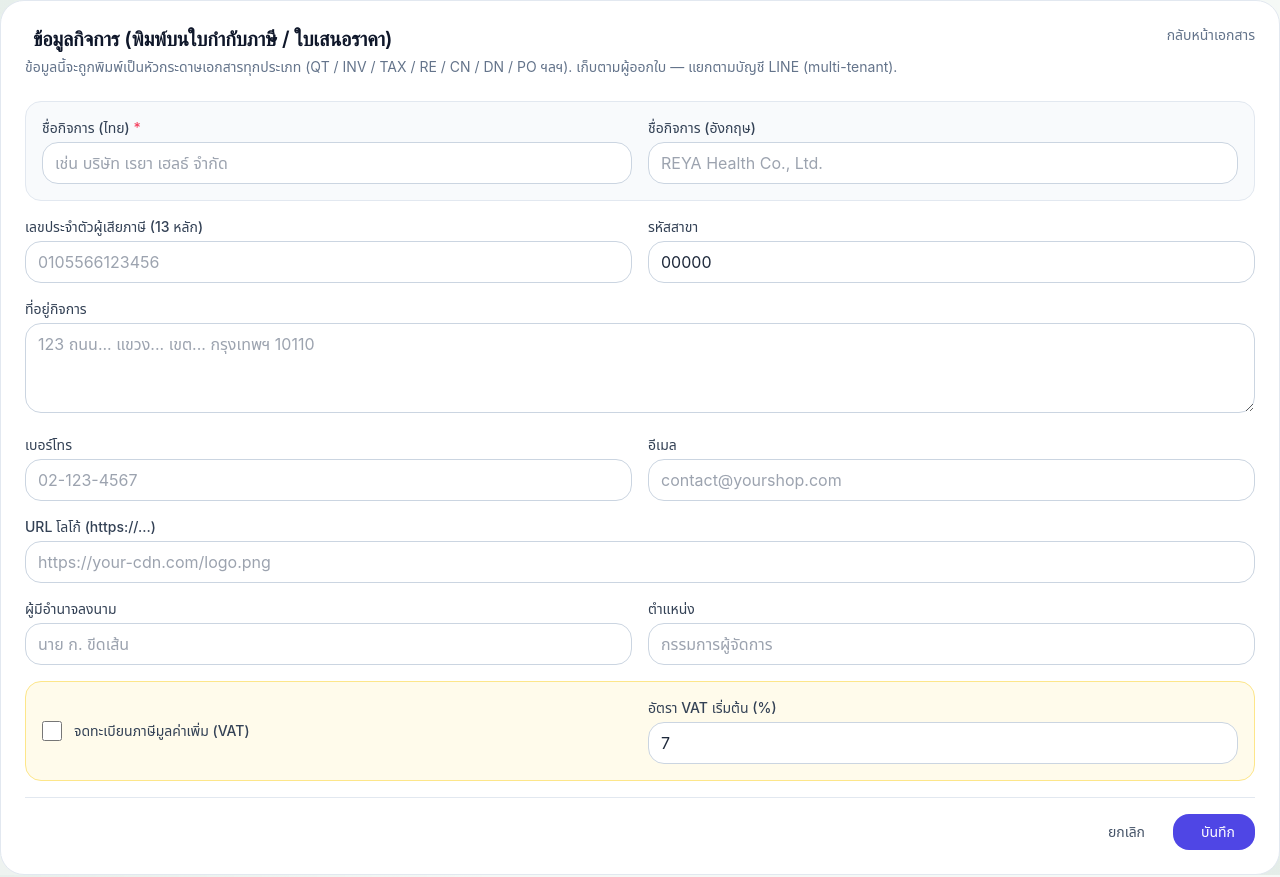
Test case: ShopTaxTab — submit › shows the error banner using result.message when success=false
Type "ร้านยา ทดสอบ" into the field with placeholder "เช่น บริษัท เรยา เฮลธ์ จำกัด" at (337, 163), box [42, 142, 632, 184]
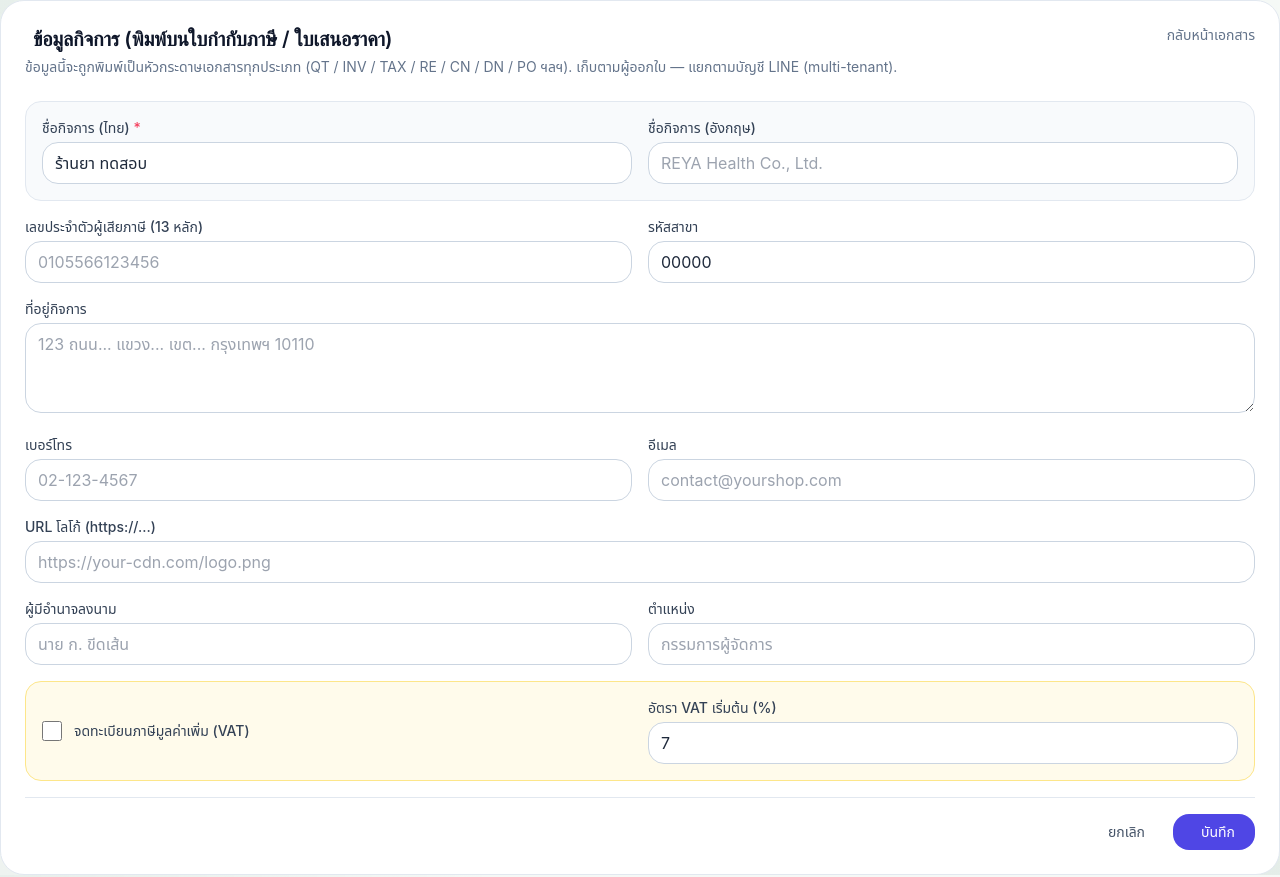
Click the button "บันทึก" at (1214, 832), box [1173, 814, 1255, 850]
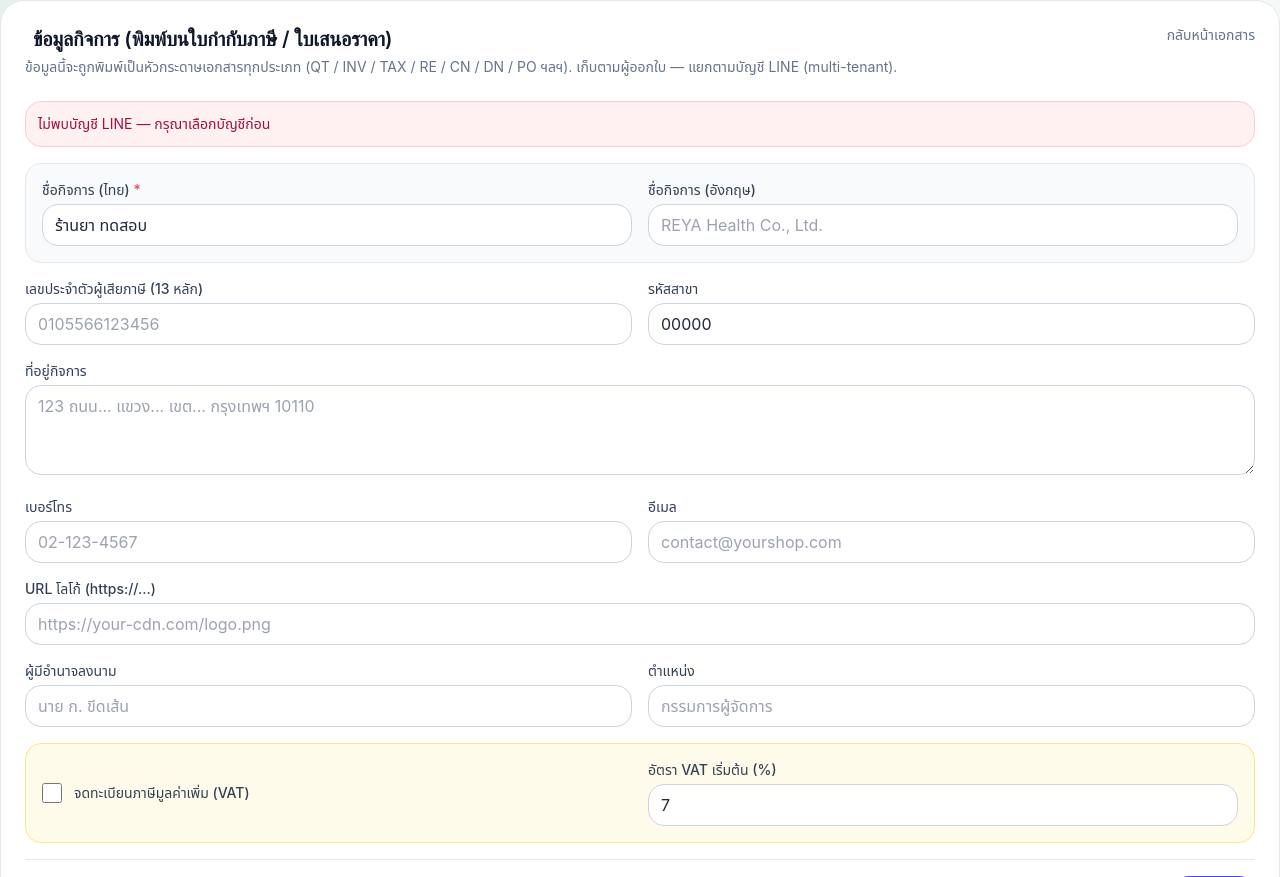
Check: the message reads "ไม่พบบัญชี LINE — กรุณาเลือกบัญชีก่อน", box [38, 115, 270, 132]
